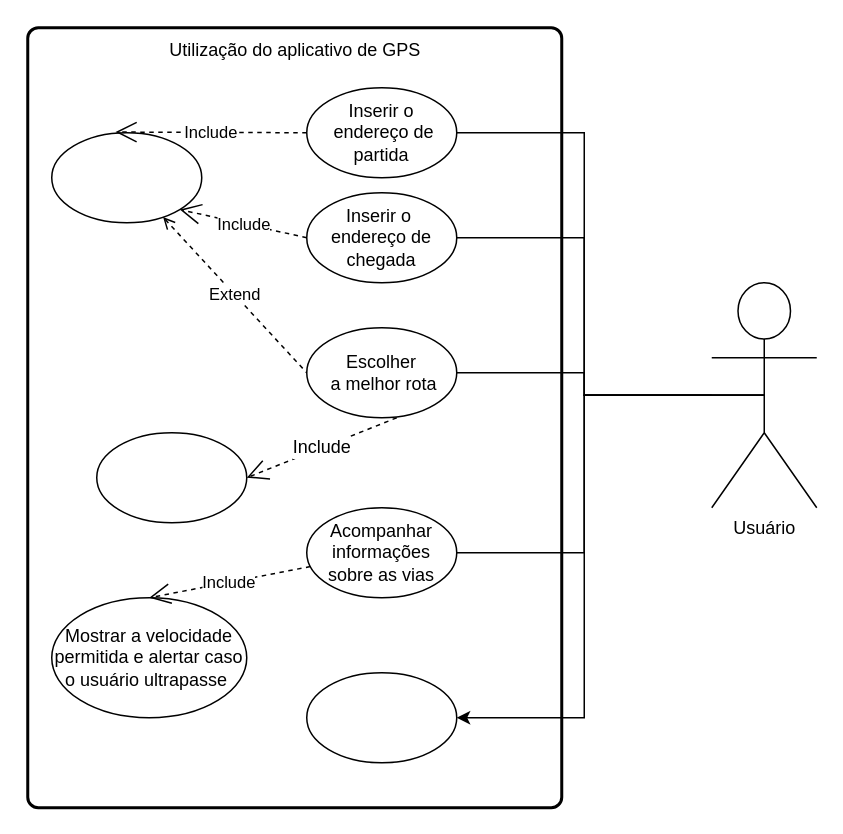
Some shapes in this 843 by 834 pixel diagram are drawn without their labels. Each missing label, with the centre of its shape:
"Calcular rotas" belongs at (126,177).
"Mostrar detalhes da rota" belongs at (171,477).
"Salvar as rotas preferidas" belongs at (381,717).
